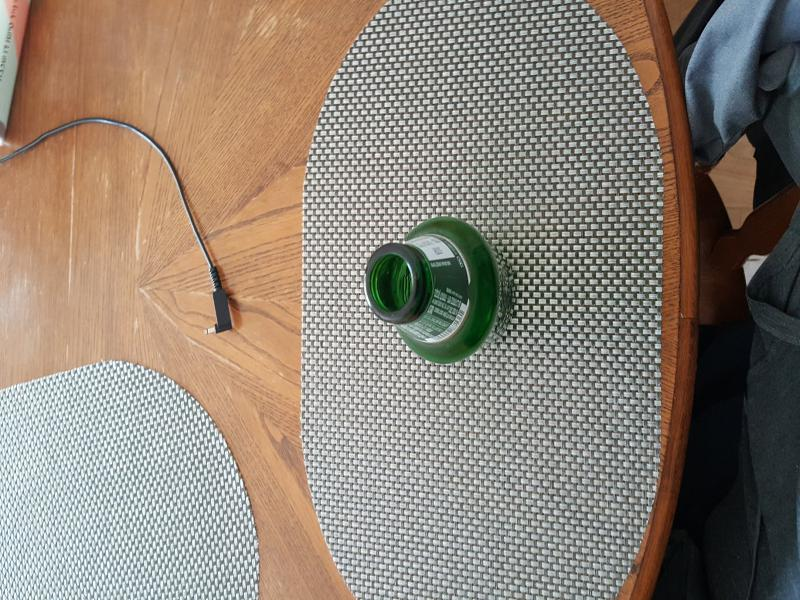Beer: (366, 225, 513, 357)
